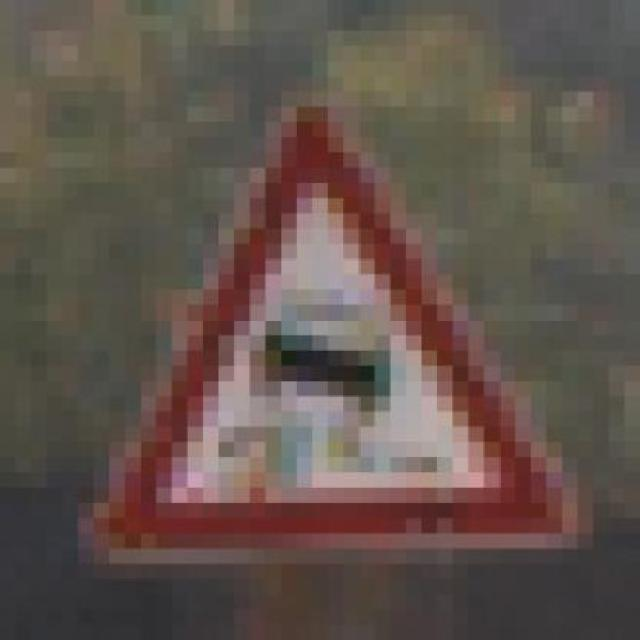Slippery Road Ahead: (62, 76, 592, 578)
